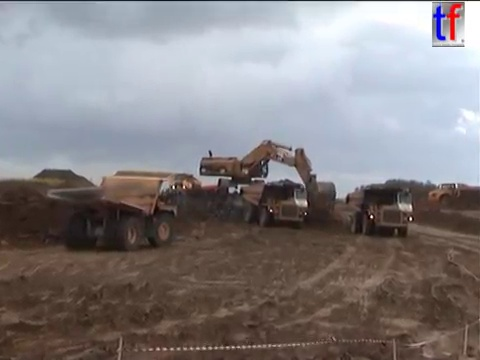excavator: (197, 137, 338, 218), (191, 180, 245, 205)
truck: (45, 168, 182, 253), (238, 178, 310, 228), (344, 187, 414, 237), (426, 181, 480, 208), (165, 171, 203, 196)
